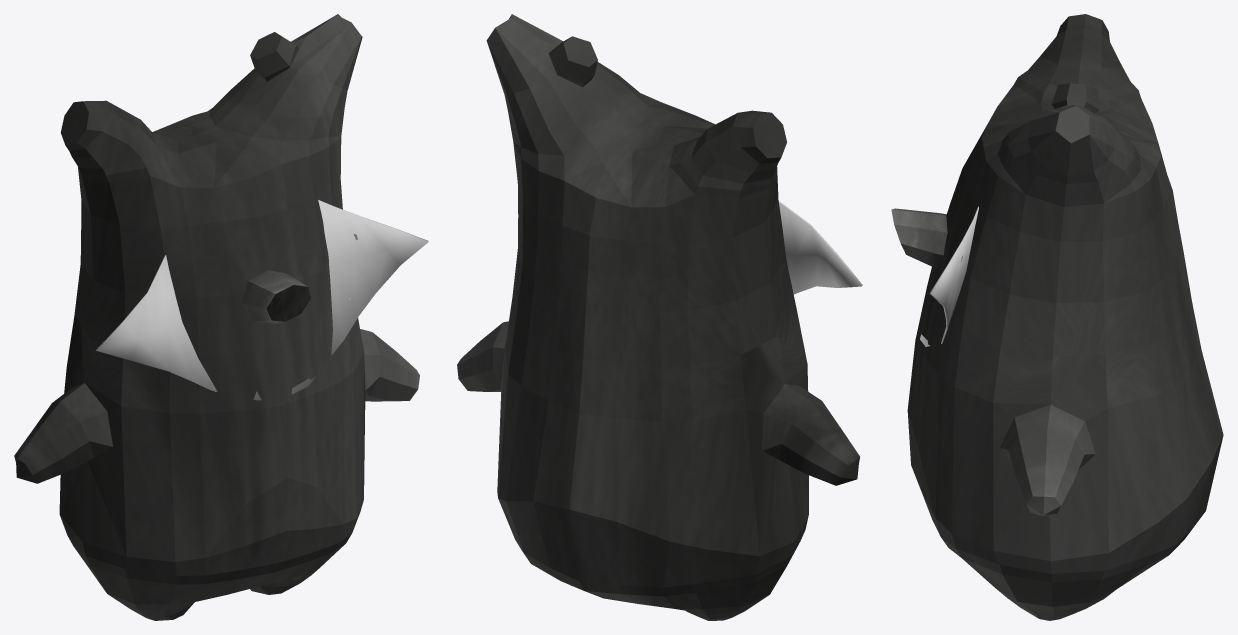
File: frame_0156.obj
3 renders of one model, left to right at view 1: azimuth 30°, elevation 25°; view 2: azimuth 150°, elevation 25°; view 3: azimuth 270°, elevation 25°, orthographic. The views are drawn at different scales.
Parts seen in each view (by area): view 1: korok, leaf, nose; view 2: korok, leaf; view 3: korok, nose, leaf.
Boxes of the visible parts, x1,y1,x2,y2 form: korok: (14, 14, 419, 620); leaf: (96, 200, 428, 400); nose: (242, 270, 310, 324); korok: (457, 14, 859, 620); leaf: (778, 201, 862, 294); korok: (907, 14, 1223, 620); nose: (891, 208, 947, 268); leaf: (920, 206, 978, 346).
Bounding box in the file's own units: 1.68 × 2.24 × 1.23.
